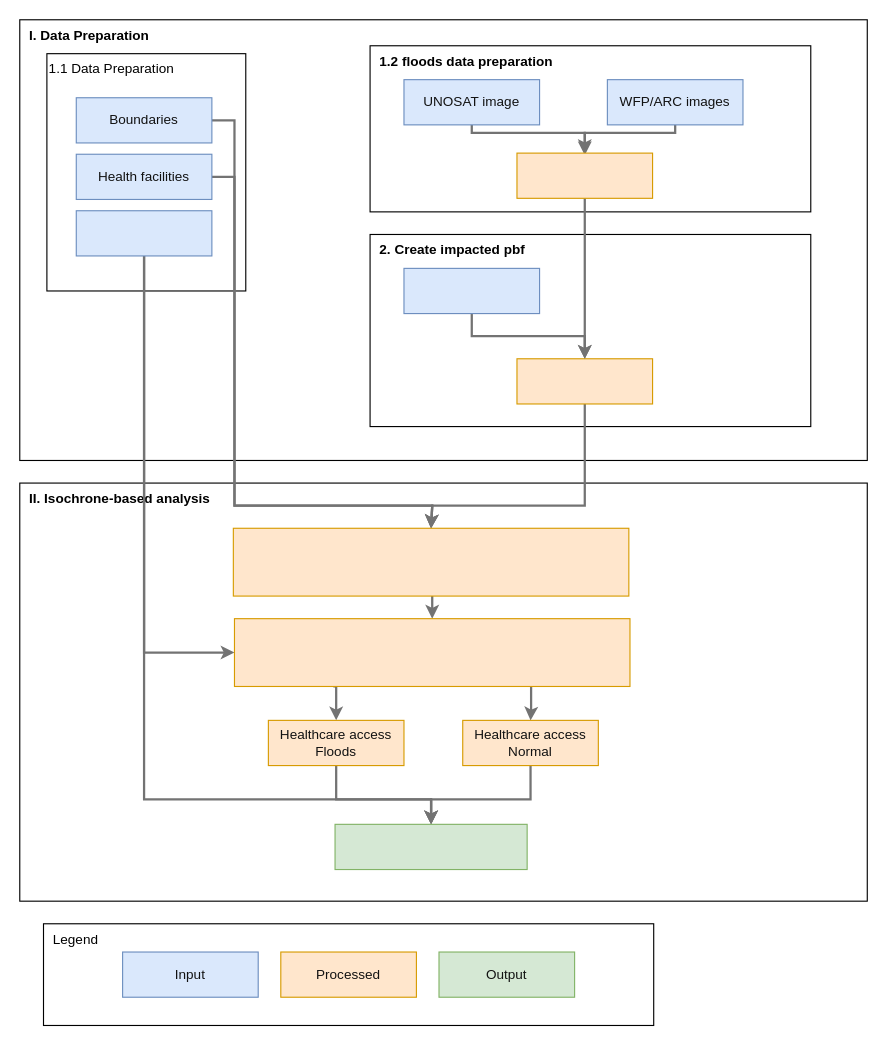
The diagram is 887 pixels wide and 1045 high, and some of its shapes have lost their labels. The shapes that lost their labels are listed below. From the top down, each one's centre as x and y in pixels, then its label:
(x=584, y=175): Floods extent
(x=143, y=233): Population
(x=471, y=290): OSM extract
(x=584, y=381): OSM extract flooded
(x=430, y=561): Process Isochrones
(x=431, y=652): Population count
(x=430, y=846): Loss of access
